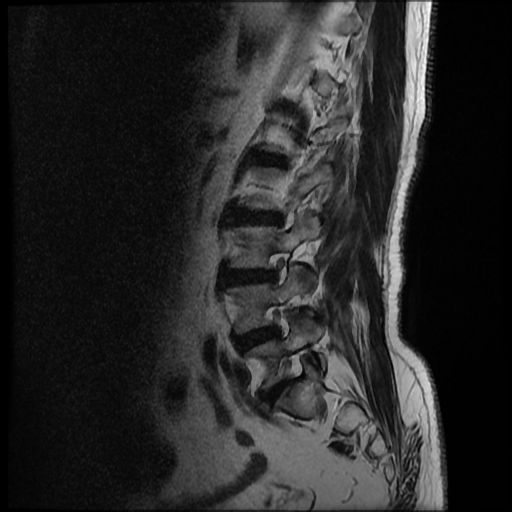LFS0: (256, 296, 298, 349), (255, 240, 294, 290)
